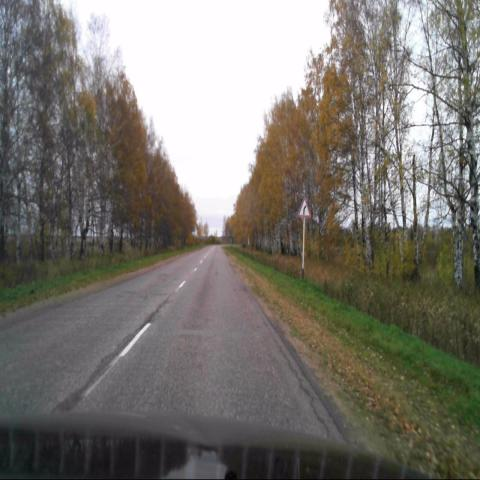1_11: (297, 196, 312, 219)
